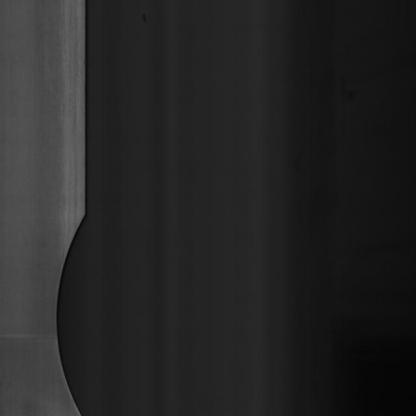crescent_gap: (50, 203, 100, 416)
welding_line: (0, 320, 61, 350)
